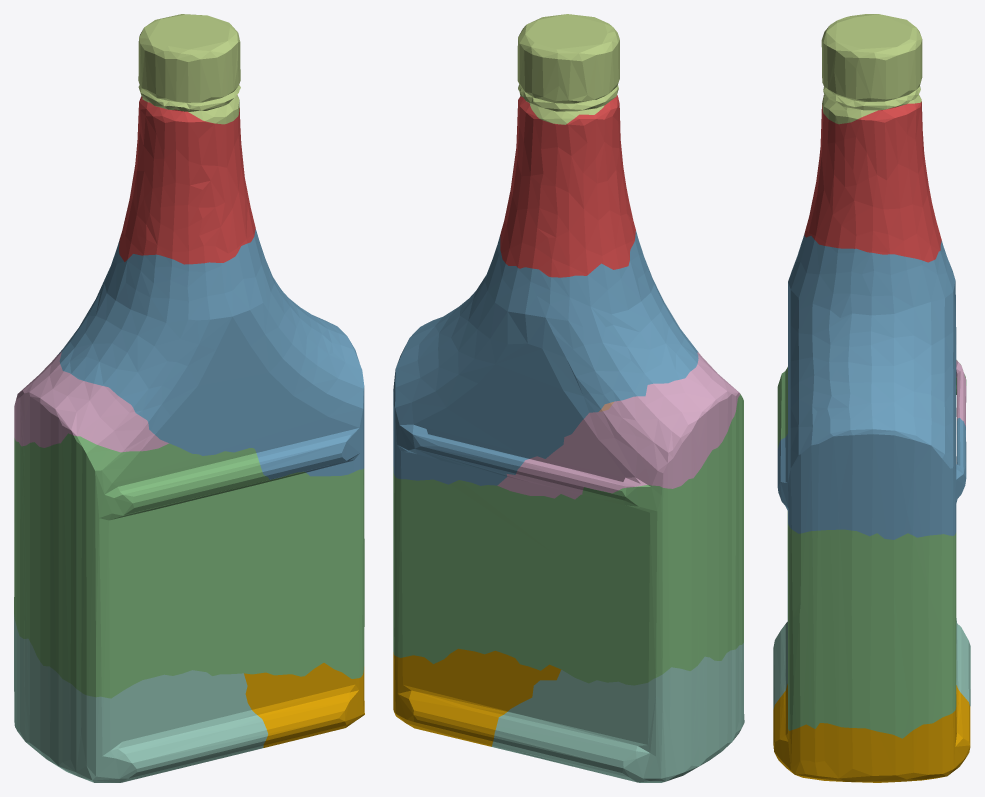
Rendered from mode_6_8pcs.glb.
3 views of the same model, side by side, from view 1: azimuth 30°, elevation 25°; view 2: azimuth 150°, elevation 25°; view 3: azimuth 270°, elevation 25° (orthographic).
Visible parts, largest first — view 1: piece_3.obj, piece_2.obj, piece_4.obj, piece_1.obj, piece_5.obj, piece_6.obj, piece_0.obj; view 2: piece_3.obj, piece_2.obj, piece_4.obj, piece_1.obj, piece_6.obj, piece_0.obj, piece_5.obj; view 3: piece_2.obj, piece_3.obj, piece_1.obj, piece_0.obj, piece_5.obj, piece_4.obj, piece_6.obj.
Part boxes in pixels (<box>): piece_3.obj: <box>14,433,364,698</box>; piece_2.obj: <box>57,229,364,479</box>; piece_4.obj: <box>14,614,268,782</box>; piece_1.obj: <box>119,96,255,264</box>; piece_5.obj: <box>138,14,240,124</box>; piece_6.obj: <box>14,351,168,452</box>; piece_0.obj: <box>244,663,364,747</box>; piece_3.obj: <box>393,394,743,685</box>; piece_2.obj: <box>393,231,698,485</box>; piece_4.obj: <box>491,643,744,782</box>; piece_1.obj: <box>500,95,635,277</box>; piece_6.obj: <box>497,352,740,499</box>; piece_0.obj: <box>393,648,561,746</box>; piece_5.obj: <box>517,14,619,124</box>; piece_2.obj: <box>777,233,966,539</box>; piece_3.obj: <box>777,360,966,738</box>; piece_1.obj: <box>804,101,941,262</box>; piece_0.obj: <box>773,684,970,782</box>; piece_5.obj: <box>821,14,922,124</box>; piece_4.obj: <box>773,571,970,709</box>; piece_6.obj: <box>956,360,966,426</box>.
Bounding box in the file's own units: 0.4503 × 1 × 0.2607.
